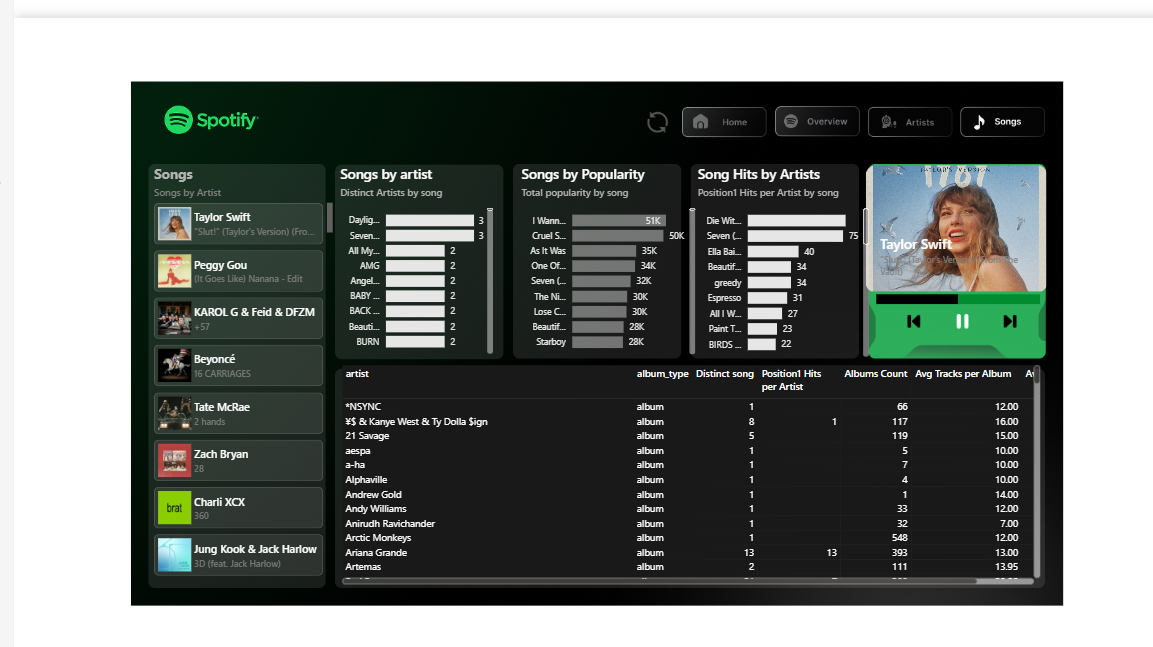

The dashboard page shown, as its layout file describes it:
{"tool":"powerbi","page":{"name":"Songs","canvas":[1600,900],"ordinal":3},"visuals":[{"type":"actionButton","box":[1291.6,121.8,123.5,39.5],"z":0},{"type":"actionButton","box":[914.2,121.8,120.1,39.5],"z":1000},{"type":"actionButton","box":[1046.3,121.8,123.5,39.5],"z":2000},{"type":"actionButton","box":[1169.8,121.8,133.8,39.5],"z":3000},{"type":"hundredPercentStackedBarChart","fields":{"Y":["_Measures.Avg Popularity","Avg(Top-50-World.popularity)"]},"box":[1178.4,348.2,235,68.6],"z":4000},{"type":"image","box":[1214.7,401.9,40,30],"z":5000},{"type":"image","box":[1346.9,401.9,40,30],"z":6000},{"type":"image","box":[1280.8,401.9,40,30],"z":7000},{"type":"shape","box":[1163,195.5,267.6,276.2],"z":8000},{"type":"advancedSlicerVisual","title":"Songs ","fields":{"Values":["Top-50-World.song"]},"box":[1142.4,195.5,300.2,187],"z":9000},{"type":"shape","box":[1161.2,195.5,252.1,276.2],"z":10000},{"type":"advancedSlicerVisual","title":"Songs ","fields":{"Values":["Top-50-World.song"]},"box":[187,200.7,255.6,574.6],"z":11000},{"type":"tableEx","fields":{"Values":["Top-50-World.artist","Top-50-World.album_type","Top-50-World.song","_Measures.Position1 Hits per Artist","_Measures.Albums Count","_Measures.Avg Tracks per Album","_Measures.Avg Popularity"]},"box":[444.3,471.7,969.1,310.5],"z":12000},{"type":"clusteredBarChart","title":" Songs by artist","fields":{"Category":["Top-50-World.song"],"Y":["_Measures.Distinct Artists"]},"box":[442.5,200,220,265],"z":13000},{"type":"clusteredBarChart","title":" Songs by Popularity","fields":{"Category":["Top-50-World.song"],"Y":["Sum(Top-50-World.popularity)"]},"box":[690.6,200,248.7,265.9],"z":14000},{"type":"clusteredBarChart","title":" Song Hits by Artists","fields":{"Category":["Top-50-World.song"],"Y":["_Measures.Position1 Hits per Artist"]},"box":[933.1,200.7,245.3,269.3],"z":15000},{"type":"image","box":[826.8,123.5,113.2,39.5],"z":15001}]}

Visuals, with their boxes on the page's 1600x900 design canvas (x1, y1, x2, y2). These are canvas units, not pixel positions in the 1153x647 screenshot, which may show the page scaled, cropped or inside an application window:
actionButton: locate(1292, 122, 1415, 161)
actionButton: locate(914, 122, 1034, 161)
actionButton: locate(1046, 122, 1170, 161)
actionButton: locate(1170, 122, 1304, 161)
hundredPercentStackedBarChart - _Measures.Avg Popularity x Avg(Top-50-World.popularity): locate(1178, 348, 1413, 417)
image: locate(1215, 402, 1255, 432)
image: locate(1347, 402, 1387, 432)
image: locate(1281, 402, 1321, 432)
shape: locate(1163, 196, 1431, 472)
"Songs " advancedSlicerVisual: locate(1142, 196, 1443, 382)
shape: locate(1161, 196, 1413, 472)
"Songs " advancedSlicerVisual: locate(187, 201, 443, 775)
tableEx - Top-50-World.artist x Top-50-World.album_type: locate(444, 472, 1413, 782)
" Songs by artist" clusteredBarChart: locate(442, 200, 662, 465)
" Songs by Popularity" clusteredBarChart: locate(691, 200, 939, 466)
" Song Hits by Artists" clusteredBarChart: locate(933, 201, 1178, 470)
image: locate(827, 124, 940, 163)
